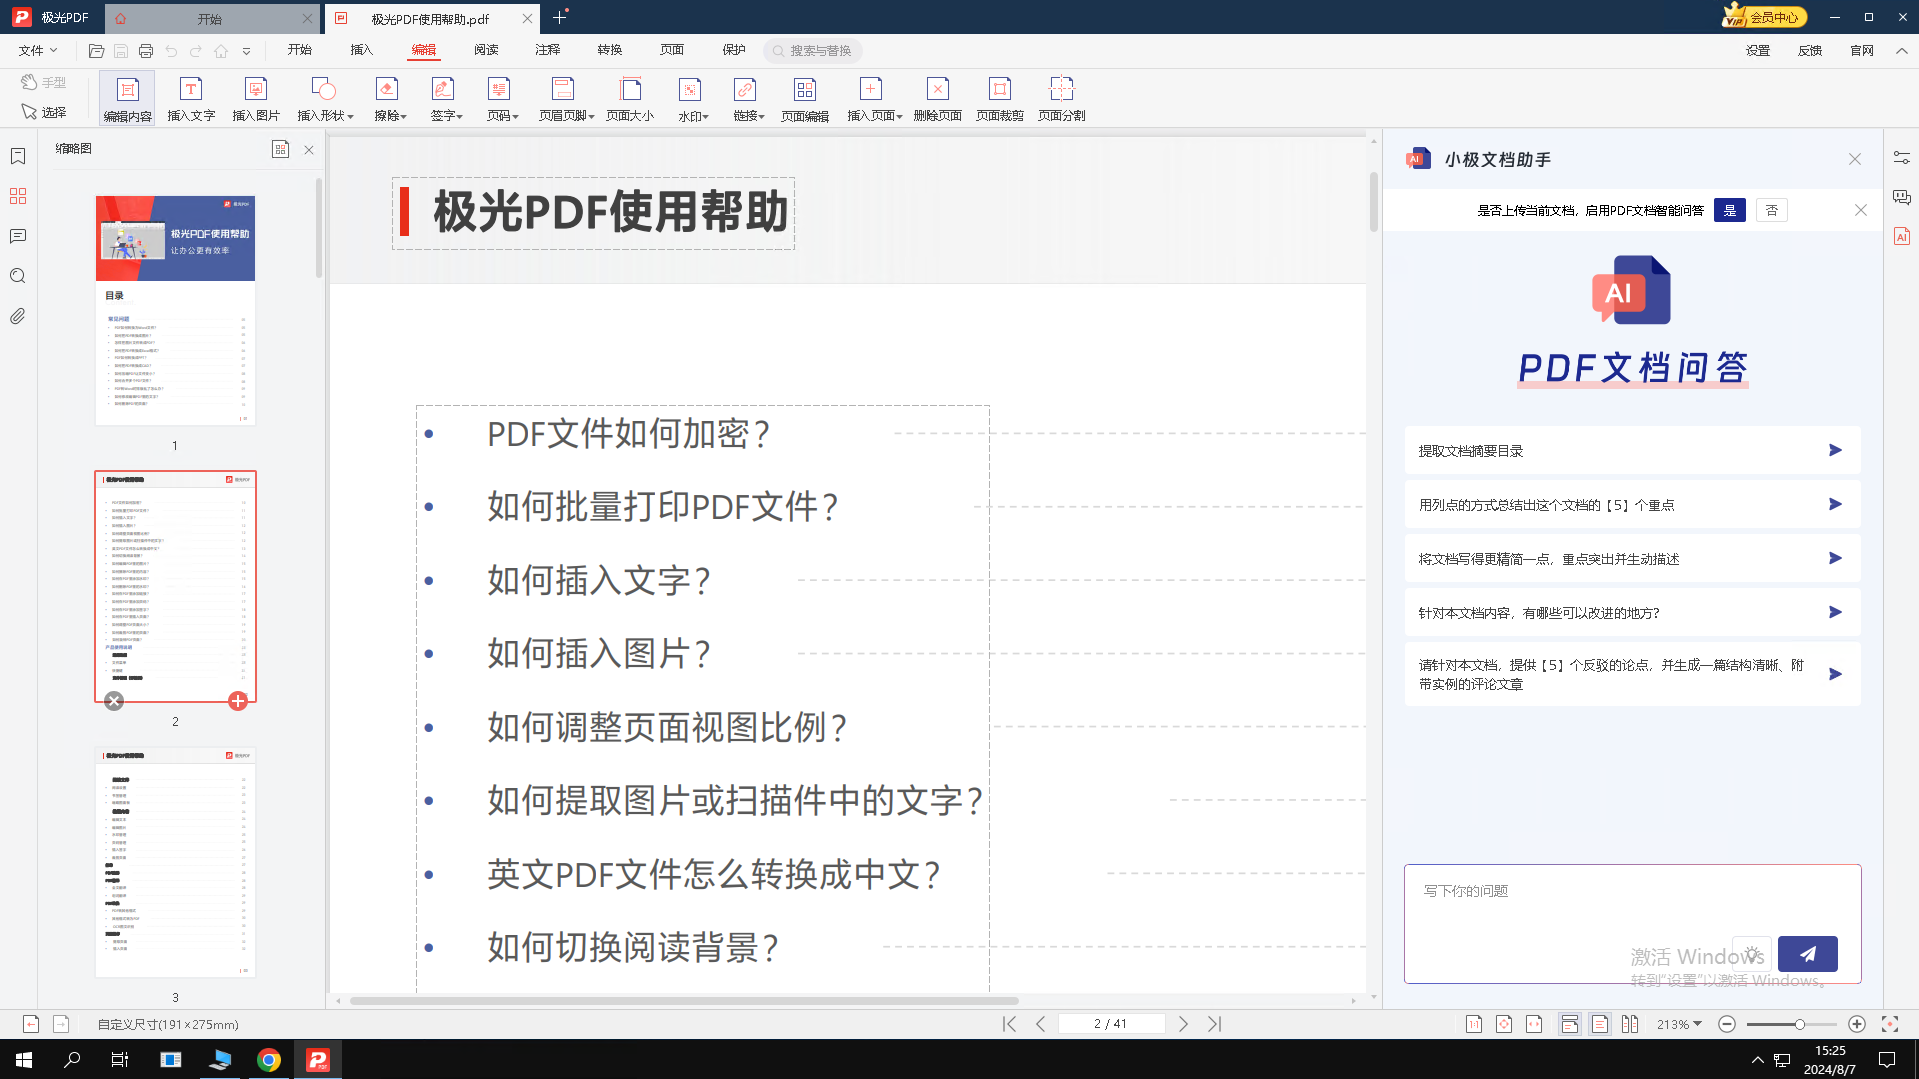Clickable: (1400, 862, 1872, 989), (1396, 646, 1877, 717), (1404, 526, 1872, 592), (1397, 593, 1876, 648), (1402, 424, 1864, 477), (1402, 478, 1866, 526), (1839, 145, 1870, 170), (1847, 199, 1877, 223)
Root: (326, 126, 1883, 1008)
Selectable: (1749, 187, 1795, 231), (1715, 190, 1752, 235)
level_0: (322, 123, 1379, 996), (1379, 123, 1883, 1003)
